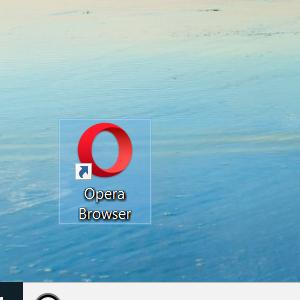opera: (75, 122, 133, 180)
